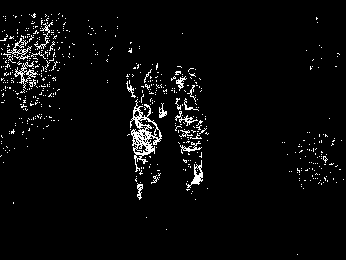person: (129, 105, 163, 200), (177, 98, 209, 190), (145, 62, 167, 104), (126, 61, 143, 105), (186, 67, 205, 103), (174, 65, 186, 103)
